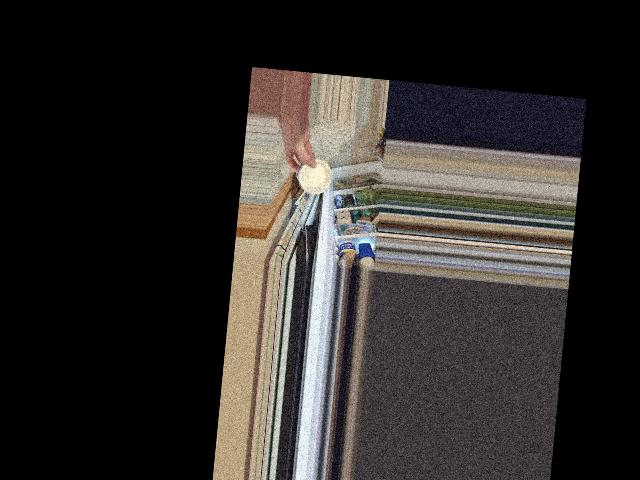cotage: (292, 154, 330, 195)
